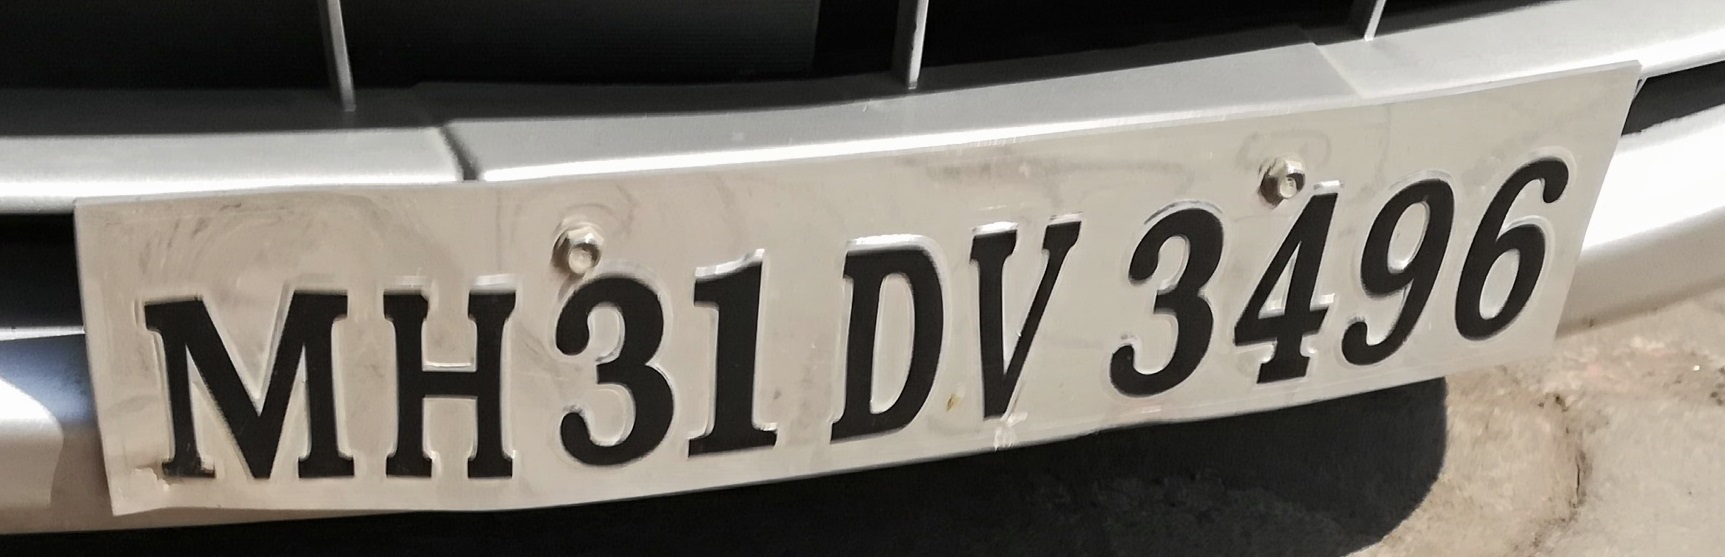numberplate: (72, 59, 1635, 525)
